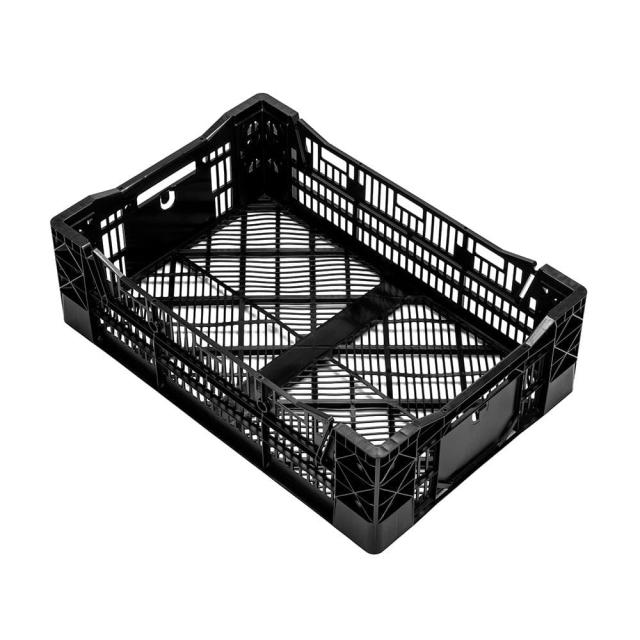basket: (0, 20, 624, 597), (83, 267, 87, 273)
